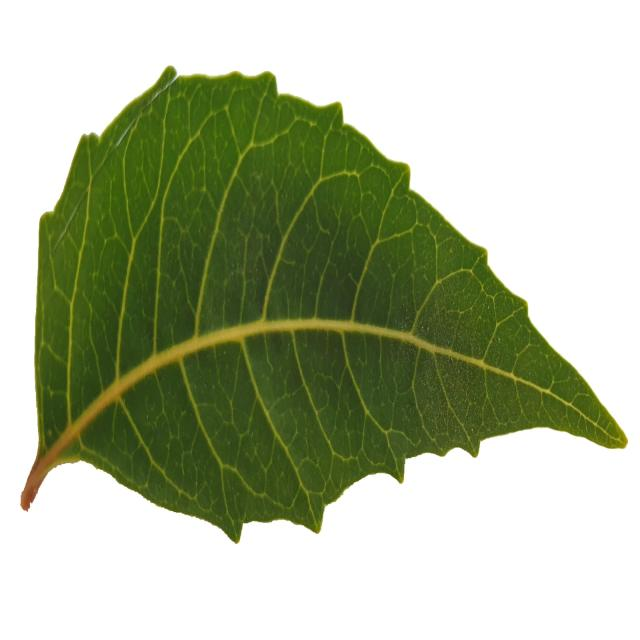Medicinal-Neem: (18, 50, 628, 541)
